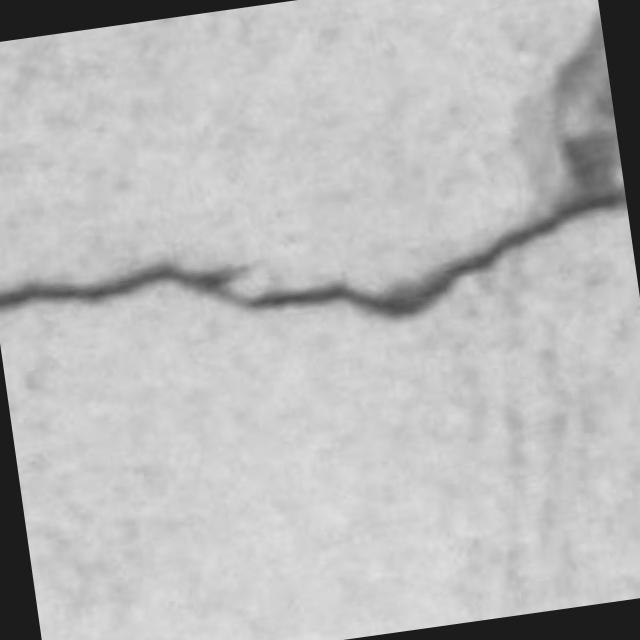crack: (0, 14, 626, 318), (0, 192, 626, 319)
